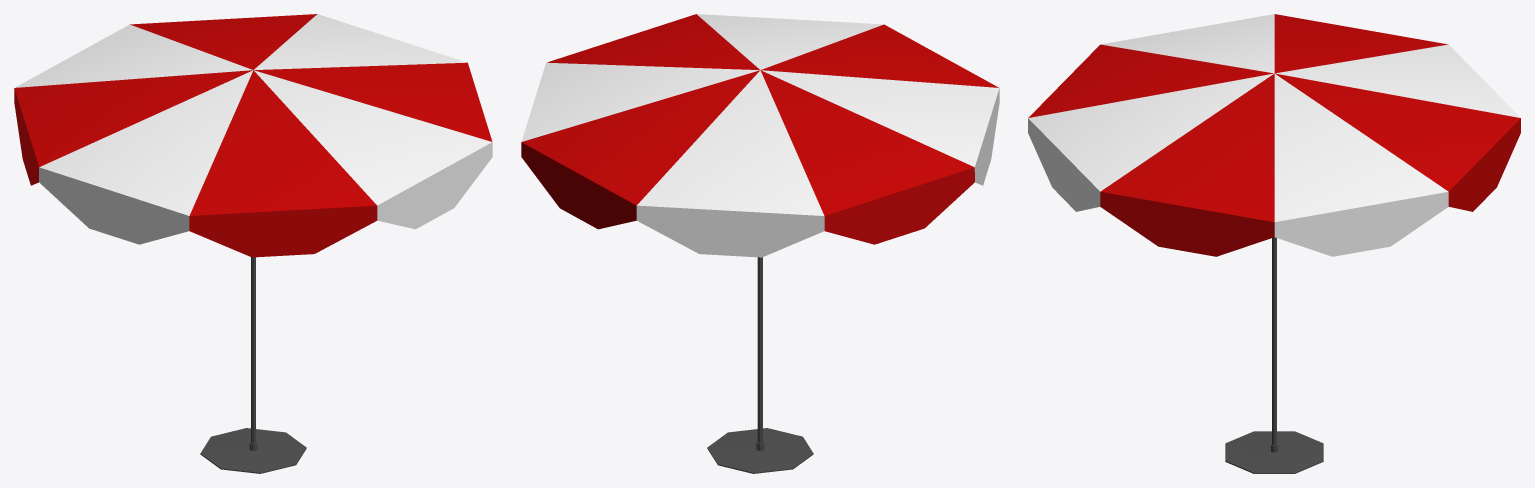
The model's file is Umbrella.fbx.
3 renders of one model, left to right at view 1: azimuth 30°, elevation 25°; view 2: azimuth 150°, elevation 25°; view 3: azimuth 270°, elevation 25°, orthographic.
Parts seen in each view (by area): view 1: Umbrella; view 2: Umbrella; view 3: Umbrella.
Boxes of the visible parts, left/top/right/bottom form: Umbrella: left=14, top=14, right=492, bottom=473; Umbrella: left=521, top=14, right=999, bottom=473; Umbrella: left=1028, top=14, right=1520, bottom=473.
Size of the model in its own units: 400 by 340 by 400.
